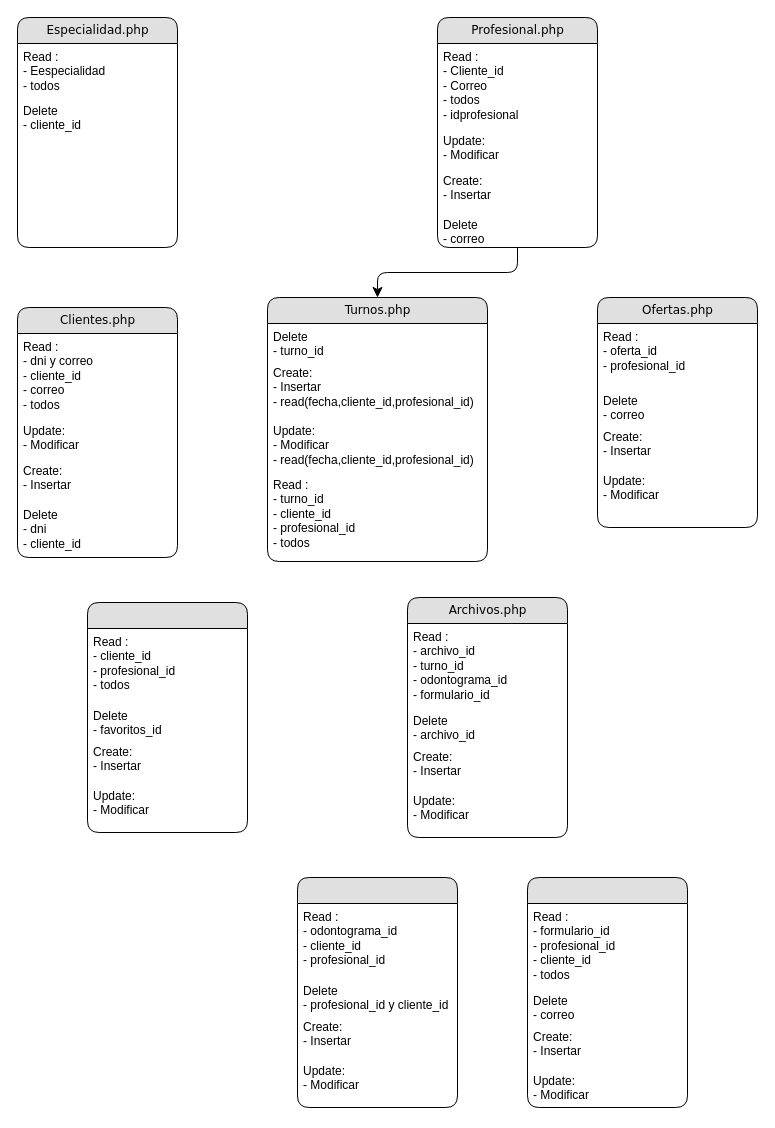
The diagram is 775 pixels wide and 1128 high, and some of its shapes have lost their labels. The box of each missing label's shape, as (x1, y1, x2, y2) in pixels:
favoritos.php: (86, 602, 248, 832)
formulario.php: (526, 876, 688, 1108)
Odontograma.php: (296, 876, 458, 1108)
